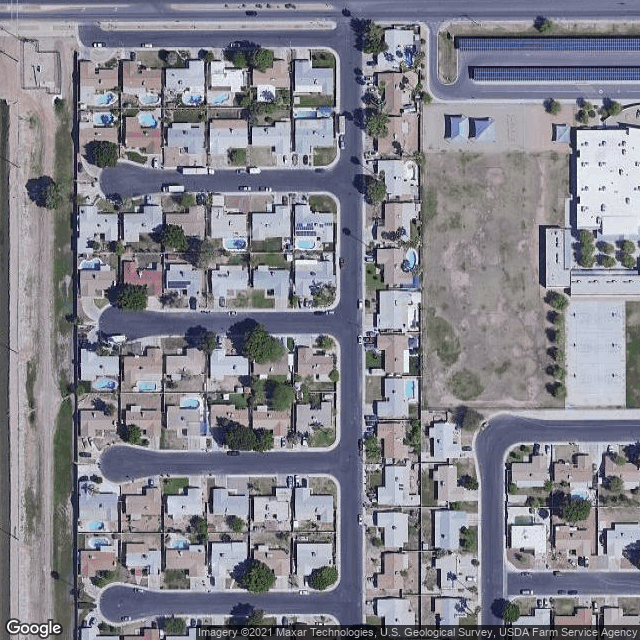carport-fixed: (457, 35, 640, 49), (472, 66, 640, 81)
